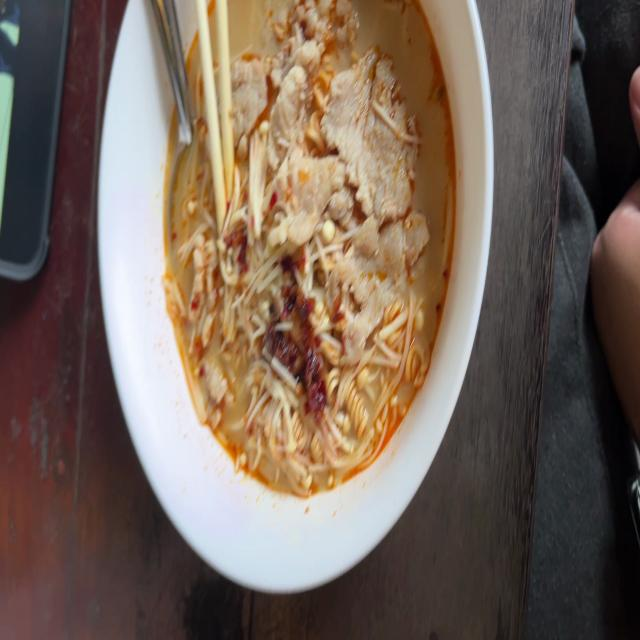noodle: (160, 0, 460, 507)
